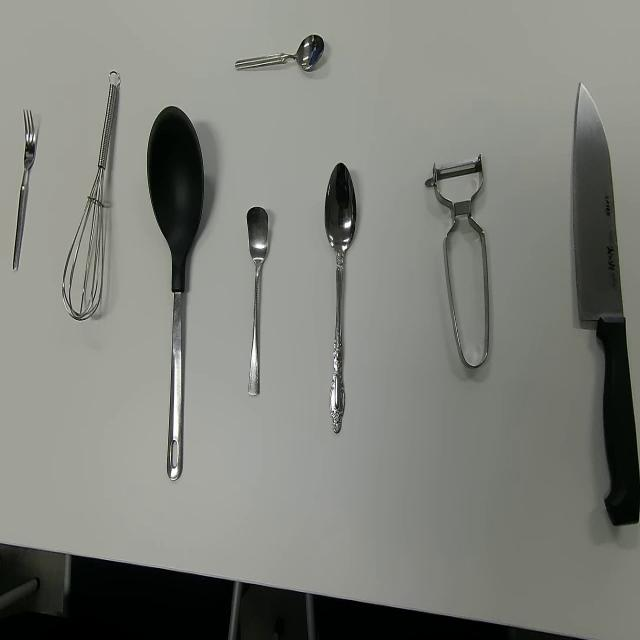Desert-Spoon: (324, 160, 357, 434)
Dinner-Fork: (12, 106, 36, 274)
Kitchen-Knife: (571, 78, 640, 529)
Peeler: (424, 151, 490, 370)
Serving-Spoon: (146, 104, 206, 481)
Tea-Spoon: (245, 204, 269, 397), (234, 32, 325, 73)
Whisk: (62, 69, 121, 322)
